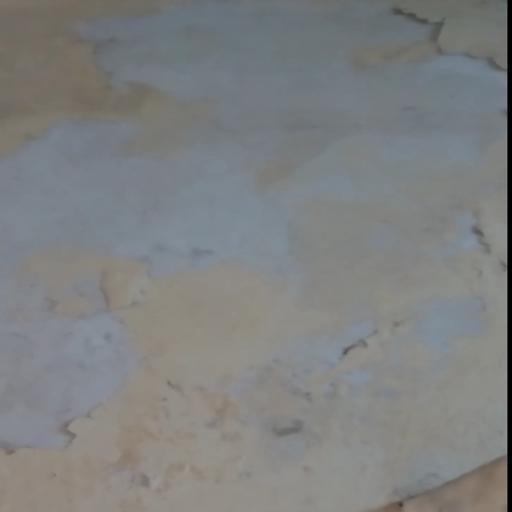peeling: (0, 0, 512, 491)
